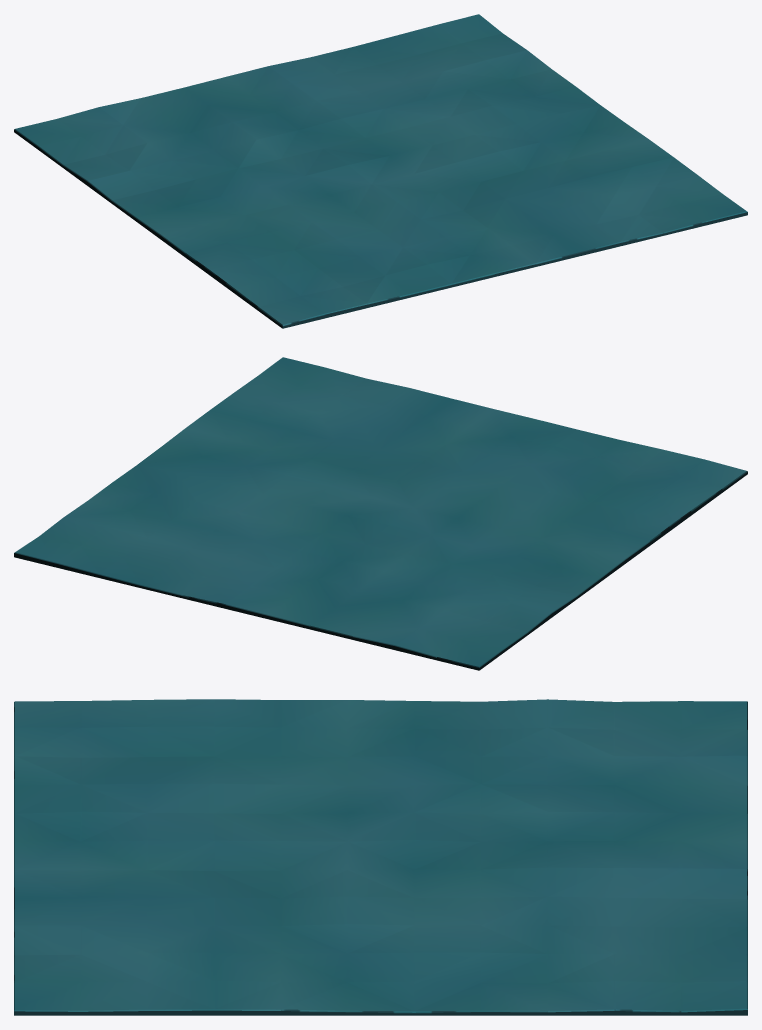
File: 0-20261016-1900-ev057-r11-exterior-lakewater_baked.glb
3 views of the same model, one above another, from view 1: azimuth 30°, elevation 25°; view 2: azimuth 150°, elevation 25°; view 3: azimuth 270°, elevation 25° (orthographic). The views are drawn at different scales.
Visible parts, largest first — view 1: SW_Exterior_LakeWater; view 2: SW_Exterior_LakeWater; view 3: SW_Exterior_LakeWater.
Boxes of the visible parts, x1,y1,x2,y2 form: SW_Exterior_LakeWater: (14, 14, 747, 328); SW_Exterior_LakeWater: (14, 357, 747, 670); SW_Exterior_LakeWater: (14, 699, 747, 1015).
Bounding box in the file's own units: 8 × 0.0859 × 8.
1 material, 1 textured.
